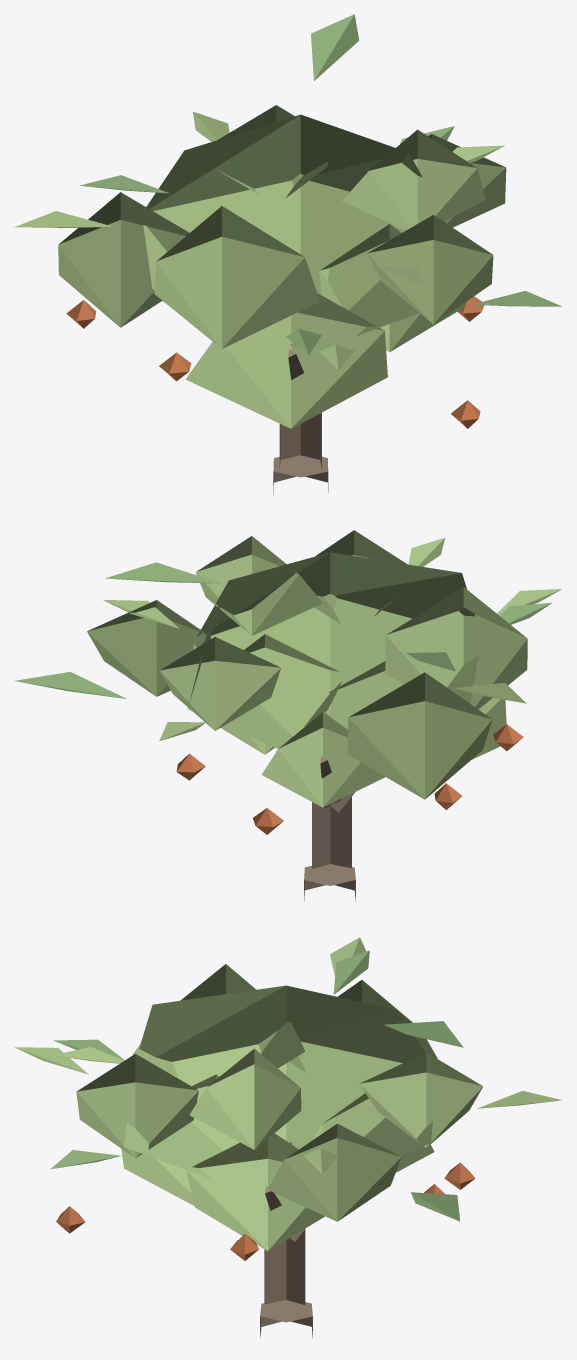
The model's file is shu.ganju__spring.glb.
The picture shows the model from 3 angles, top to bottom: view 1: azimuth 30°, elevation 25°; view 2: azimuth 150°, elevation 25°; view 3: azimuth 270°, elevation 25°; orthographic projection. The views are drawn at different scales.
Parts seen in each view (by area): view 1: shu.ganju__spring; view 2: shu.ganju__spring; view 3: shu.ganju__spring.
Boxes of the visible parts, x1,y1,x2,y2 form: shu.ganju__spring: (14,14,562,494); shu.ganju__spring: (14,530,561,901); shu.ganju__spring: (15,937,562,1338).
Bounding box in the file's own units: 7.1 × 5.12 × 7.18.
